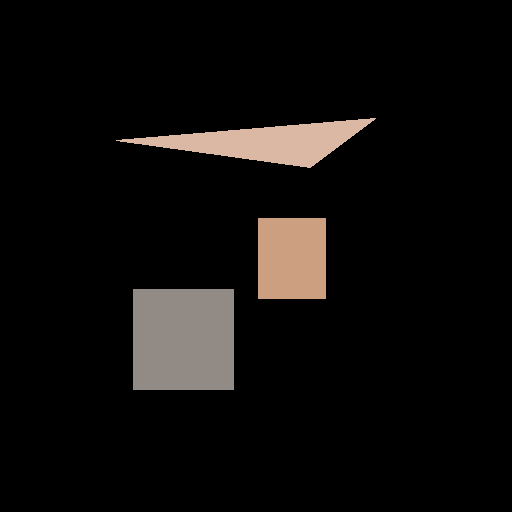rectangle: (258, 218, 325, 298)
square: (133, 289, 233, 389)
triangle: (116, 118, 375, 167)
